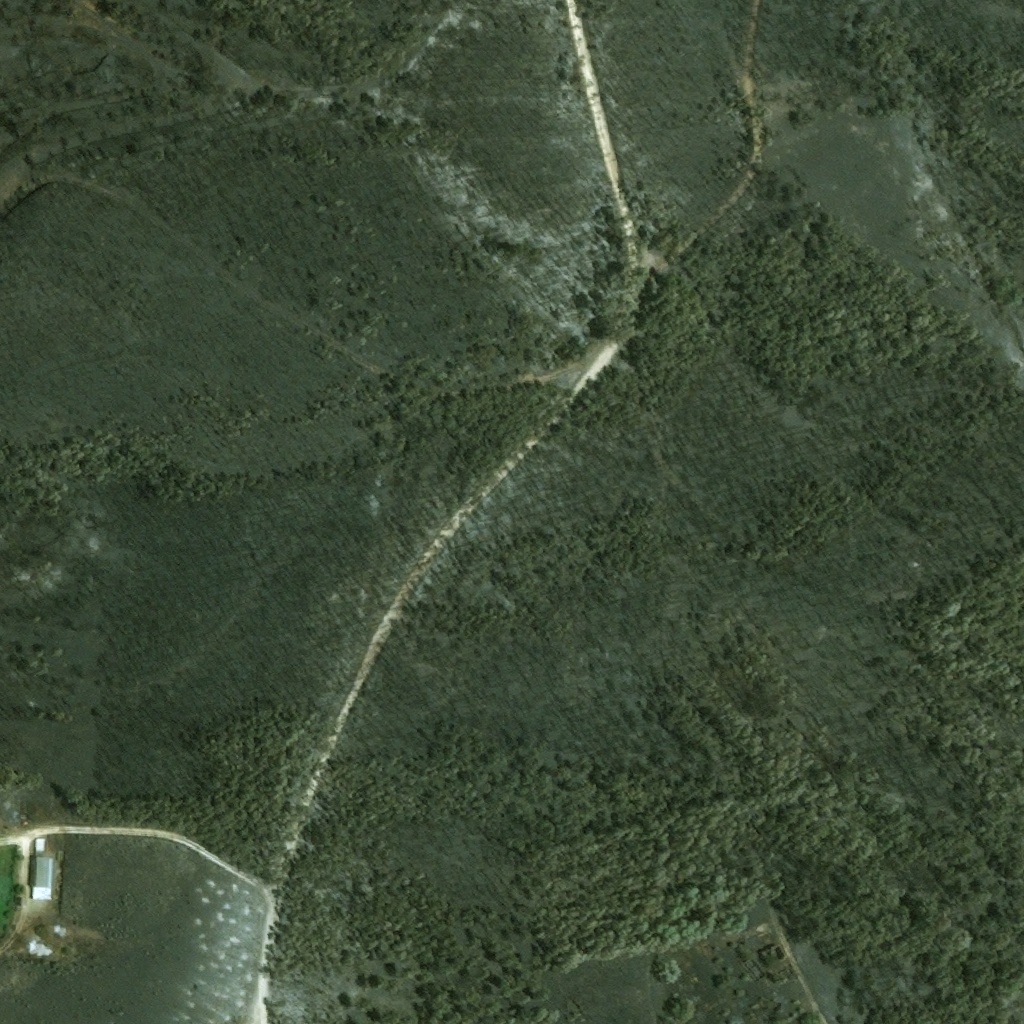0 no-damage: (27, 857, 55, 890), (34, 839, 45, 852)
4 un-classified: (11, 861, 27, 886)
